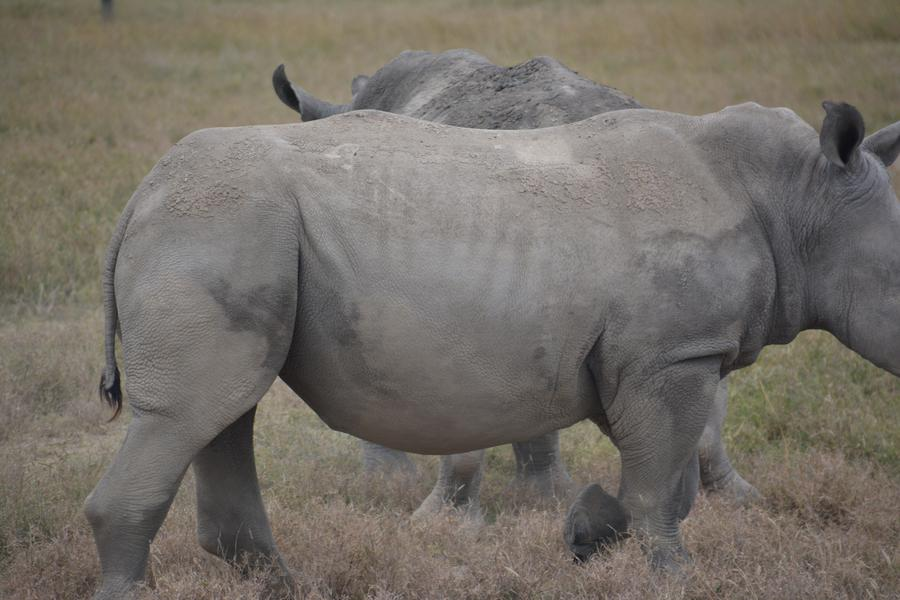rhino: (122, 113, 870, 555)
